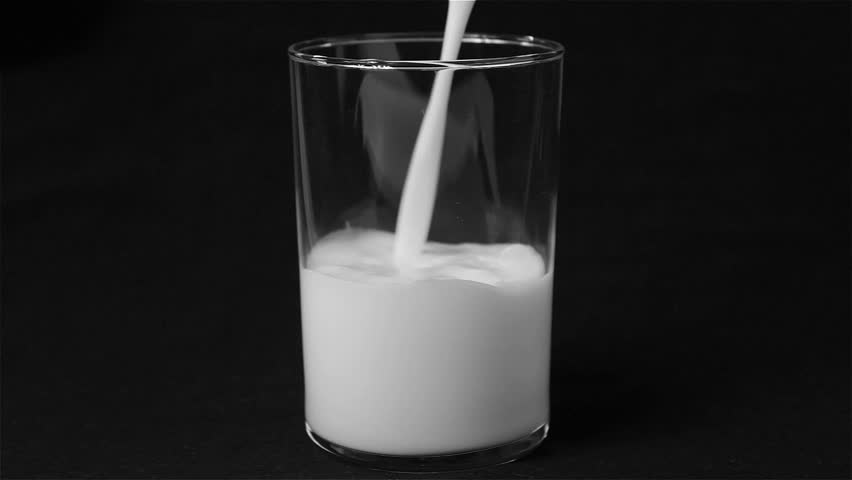glass of milk: (268, 39, 582, 471)
